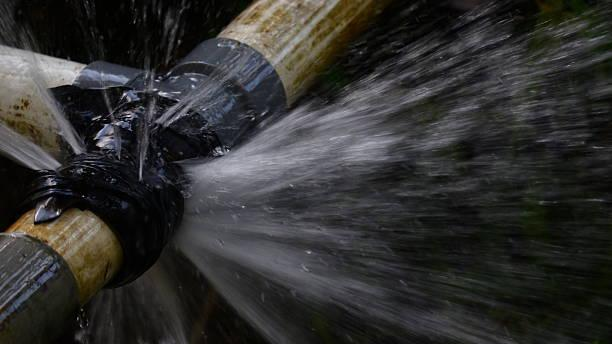pipe burst: (84, 0, 612, 342), (0, 7, 85, 175)
